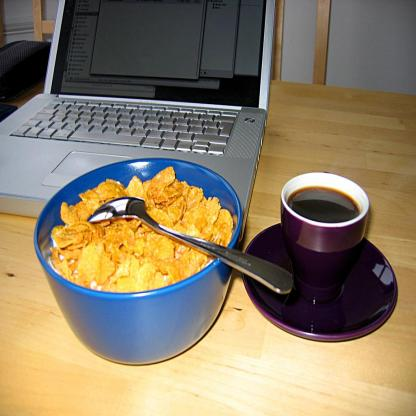board: (0, 1, 279, 183)
